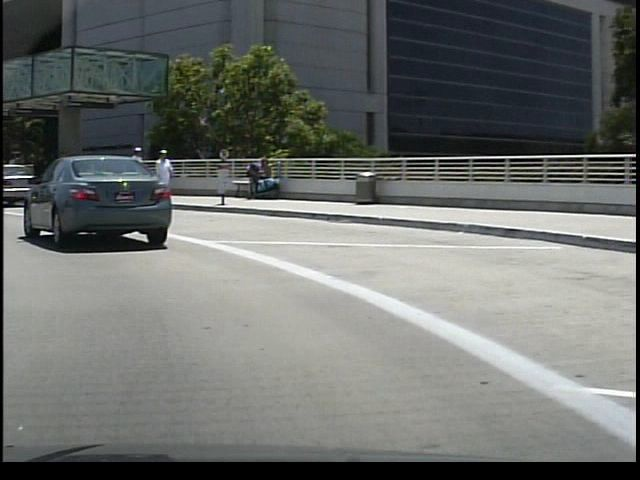person: (46, 148, 72, 212), (148, 146, 170, 203), (122, 143, 143, 200)
